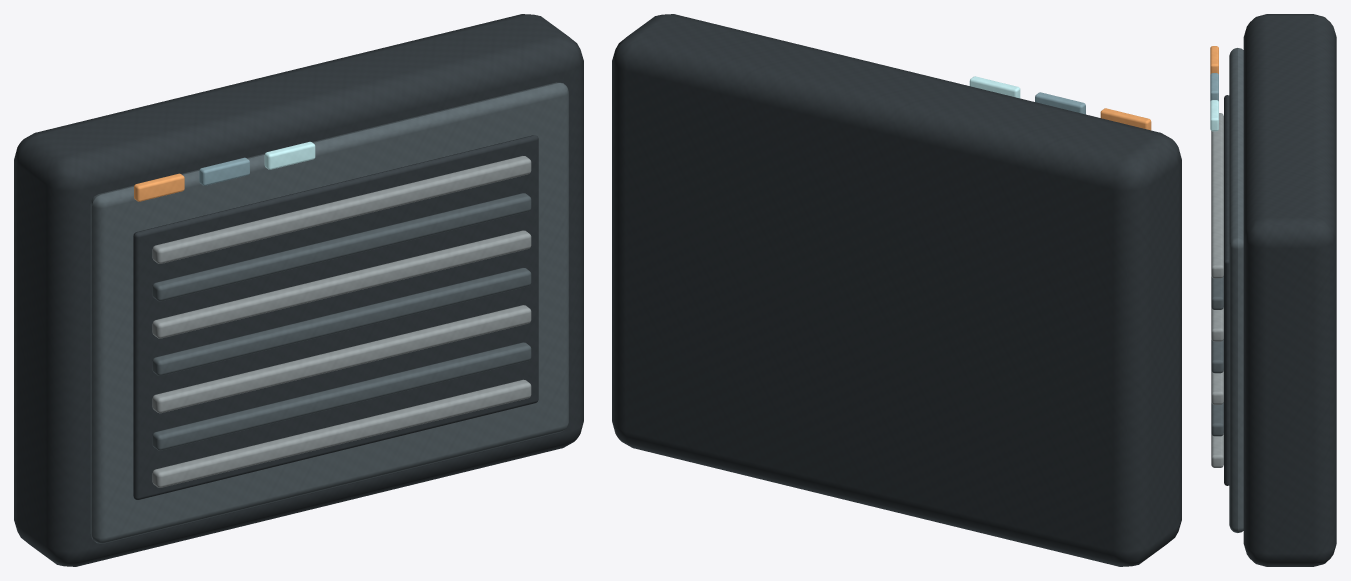
The model's file is WallVent.glb.
3 renders of one model, left to right at view 1: azimuth 30°, elevation 25°; view 2: azimuth 150°, elevation 25°; view 3: azimuth 270°, elevation 25°, orthographic. The views are drawn at different scales.
Visible parts, largest first — view 1: WallVent_Mesh; view 2: WallVent_Mesh; view 3: WallVent_Mesh.
Part boxes in pixels (<box>): WallVent_Mesh: <box>14,14,583,566</box>; WallVent_Mesh: <box>612,14,1181,566</box>; WallVent_Mesh: <box>1210,14,1336,566</box>.
Bounding box in the file's own units: 0.9 × 0.66 × 0.2175.
Materials: 6 (6 with a texture image).
